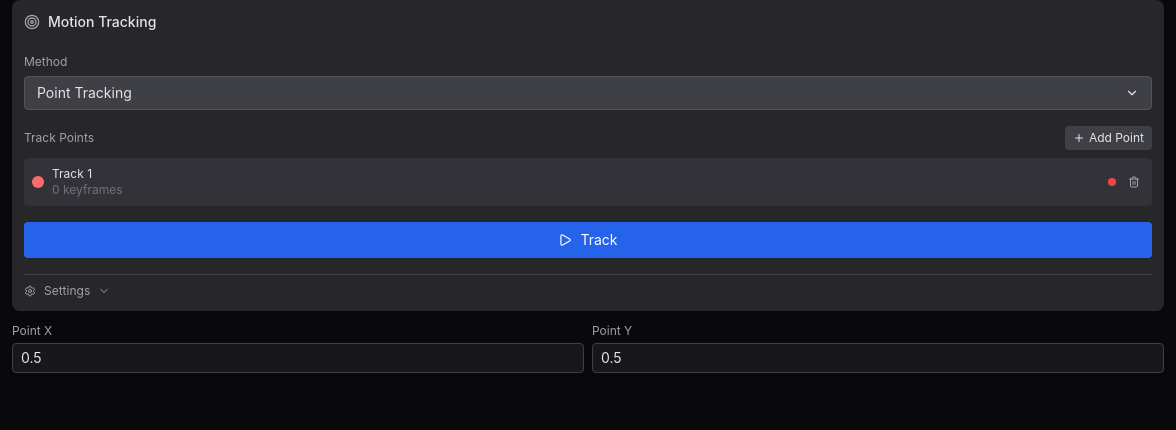
Scenario: PointTrackingPanel › tracking result display › should show tracked frames count after successful tracking
# Click the track button to start tracking
Click the button "Track" at (588, 240), box [24,222,1152,258]
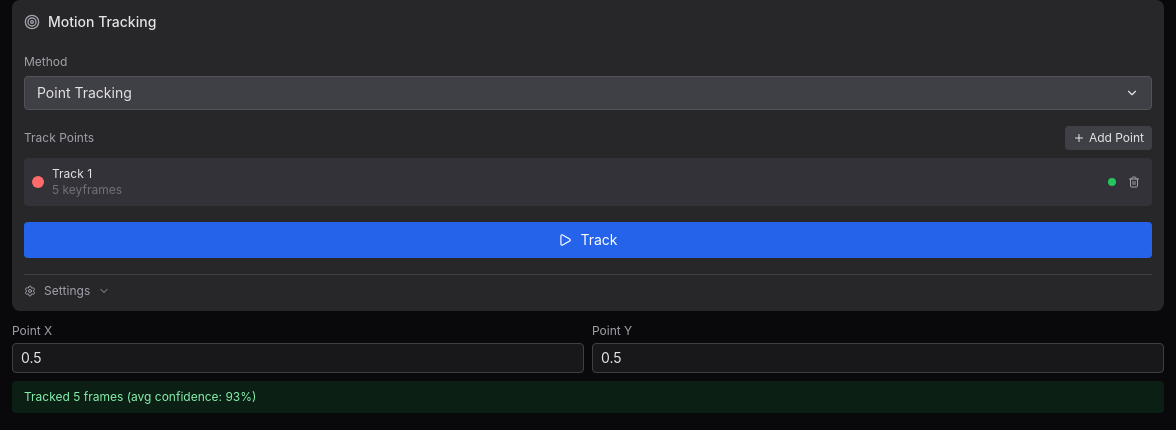
Now the text "Tracked 5 frames (avg confidence: 93%)" is shown, box [12,381,1164,413]
